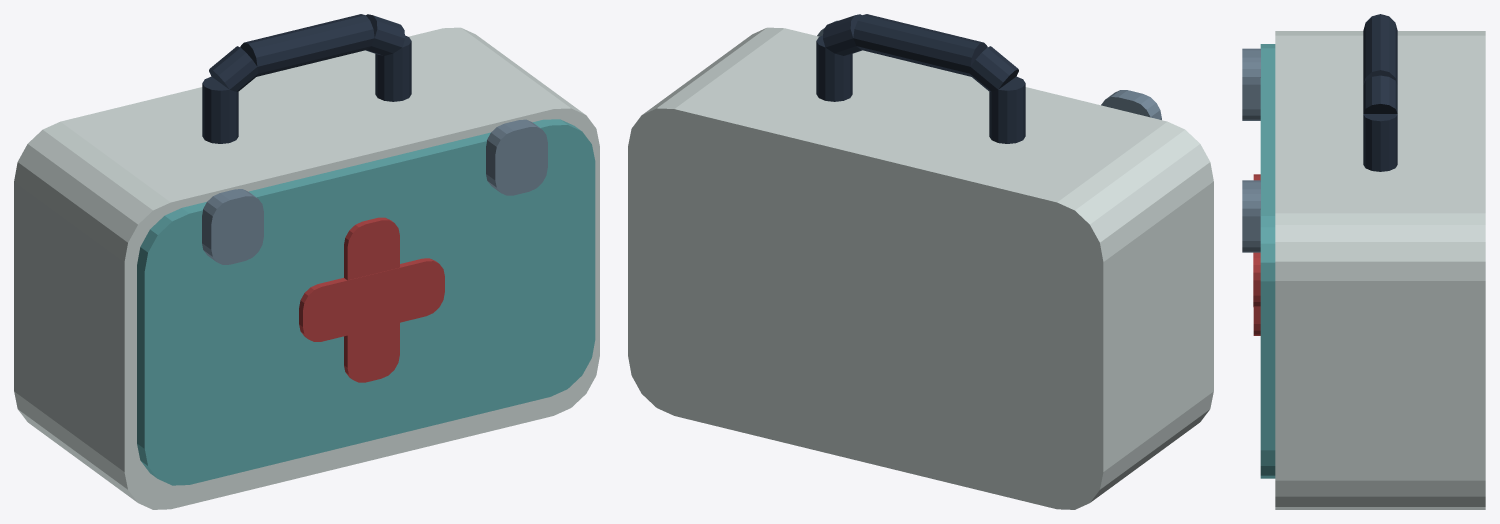
File: firstaid.glb
The picture shows the model from 3 angles, left to right: view 1: azimuth 30°, elevation 25°; view 2: azimuth 150°, elevation 25°; view 3: azimuth 270°, elevation 25°; orthographic projection. The views are drawn at different scales.
Visible parts, largest first — view 1: lid, case, cross horizontal, cross vertical, carry handle2, closure 0.46, closure -0.46, carry handle0, carry handle4, carry handle1, carry handle3; view 2: case, carry handle2, carry handle0, carry handle4, carry handle1, carry handle3, closure -0.46; view 3: case, lid, carry handle2, carry handle4, closure -0.46, closure 0.46, carry handle3, cross horizontal, cross vertical.
Boxes of the visible parts, x1=… form: lid: x1=137, y1=119, x2=595, y2=485; case: x1=14, y1=27, x2=599, y2=509; cross horizontal: x1=299, y1=258, x2=444, y2=341; cross vertical: x1=344, y1=217, x2=399, y2=382; carry handle2: x1=240, y1=14, x2=374, y2=76; closure 0.46: x1=486, y1=119, x2=547, y2=195; closure -0.46: x1=202, y1=189, x2=263, y2=264; carry handle0: x1=202, y1=76, x2=238, y2=143; carry handle4: x1=375, y1=35, x2=411, y2=101; carry handle1: x1=209, y1=46, x2=258, y2=91; carry handle3: x1=366, y1=14, x2=404, y2=55; case: x1=628, y1=27, x2=1213, y2=509; carry handle2: x1=853, y1=14, x2=987, y2=76; carry handle0: x1=989, y1=76, x2=1025, y2=143; carry handle4: x1=816, y1=35, x2=852, y2=101; carry handle1: x1=969, y1=46, x2=1018, y2=91; carry handle3: x1=823, y1=14, x2=861, y2=55; closure -0.46: x1=1101, y1=90, x2=1161, y2=119; case: x1=1275, y1=31, x2=1485, y2=509; lid: x1=1260, y1=44, x2=1275, y2=478; carry handle2: x1=1363, y1=15, x2=1397, y2=84; carry handle4: x1=1363, y1=114, x2=1397, y2=171; closure -0.46: x1=1242, y1=48, x2=1260, y2=120; closure 0.46: x1=1242, y1=180, x2=1260, y2=252; carry handle3: x1=1363, y1=75, x2=1397, y2=113; cross horizontal: x1=1253, y1=252, x2=1260, y2=307; cross vertical: x1=1253, y1=174, x2=1260, y2=335.
Bounding box in the file's own units: 1.54 × 1.22 × 0.7175.
